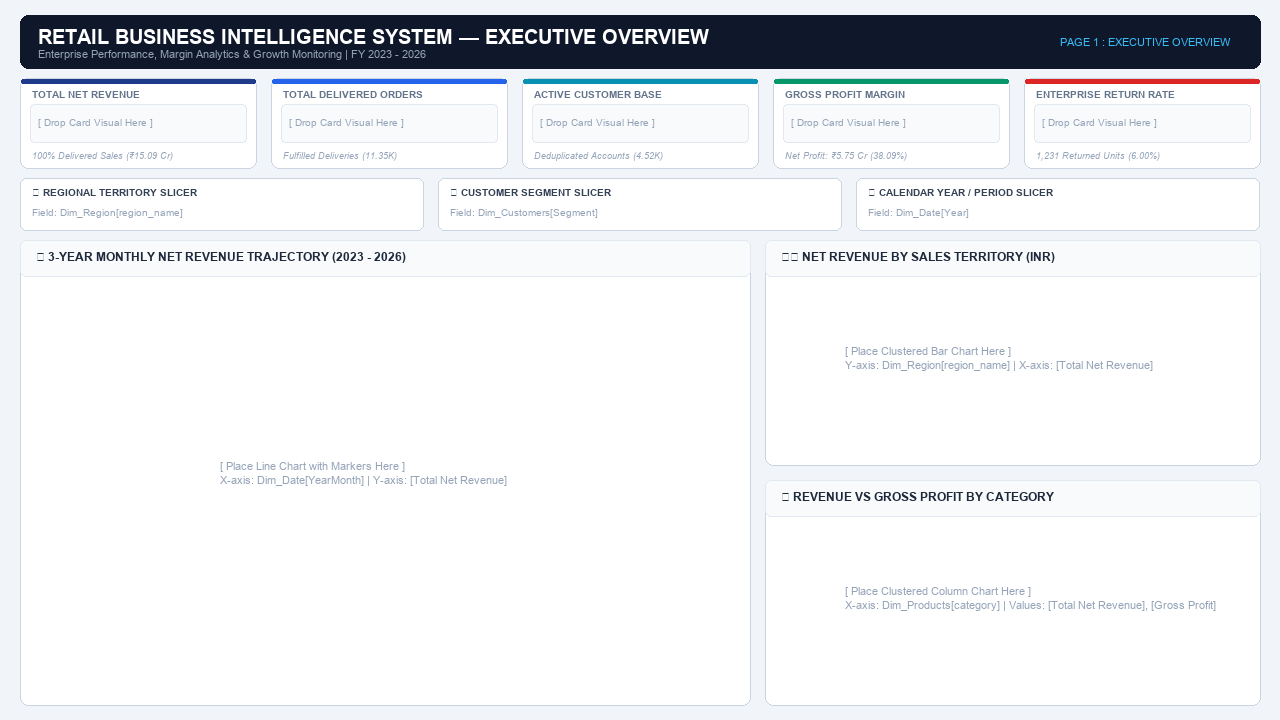

This screenshot's page, from the dashboard's own definition file:
{"tool":"powerbi","page":{"name":"Executive Overview","canvas":[1920,1080],"ordinal":0},"visuals":[{"type":"shape","box":[5.4,23.5,1911,81.4],"z":0},{"type":"textbox","box":[10.9,50.7,1909.2,54.3],"z":1000},{"type":"cardVisual","title":"TOTAL NET REVENUE","fields":{"Data":["_Measures.Total Net Revenue"]},"box":[32.6,161.1,354.7,88.7],"z":2000},{"type":"cardVisual","title":"TOTAL DELIVERED ORDERS","fields":{"Data":["_Measures.Total Delivered Orders"]},"box":[409,161.1,351.1,90.5],"z":3000},{"type":"cardVisual","title":"ACTIVE CUSTOMERS","fields":{"Data":["_Measures.Active Customers"]},"box":[783.6,161.1,354.7,90.5],"z":4000},{"type":"cardVisual","title":"GROSS PROFIT MARGIN","fields":{"Data":["_Measures.Gorss Margin %"]},"box":[1160,161.1,354.7,90.5],"z":5000},{"type":"cardVisual","title":"RETURN RATE","fields":{"Data":["_Measures.Return Rate %"]},"box":[1536.4,161.1,354.7,90.5],"z":6000},{"type":"slicer","fields":{"Values":["Dim_Region.region_name"]},"box":[32.6,300.4,606.2,45.2],"z":7000},{"type":"slicer","fields":{"Values":["Dim_Customers.Segment.1"]},"box":[638.8,300.4,622.5,45.2],"z":8000},{"type":"slicer","fields":{"Values":["Dim_Date.Year"]},"box":[1286.7,300.4,602.6,45.2],"z":9000},{"type":"lineChart","title":"Monthly Net Revenue Trend (2023 - 2026)","fields":{"Category":["Dim_Date.YearMonth"],"Y":["_Measures.Total Net Revenue"]},"box":[32.6,414.4,1093,647.9],"z":10000},{"type":"clusteredBarChart","title":"Net Revenue by Sales Territory (INR)","fields":{"Category":["Dim_Region.region_name"],"Y":["_Measures.Total Net Revenue"]},"box":[1138.3,414.4,751,280.5],"z":11000},{"type":"clusteredColumnChart","title":"Revenue vs Gross Profit by Category","fields":{"Category":["Dim_Products.category"],"Y":["_Measures.Total Net Revenue","_Measures.Gross Profit"]},"box":[1138.3,774.5,751,287.7],"z":12000}]}

Visuals, with their boxes in screenshot pixels (x1, y1, x2, y2), scaled from the page's 1920x1080 canvas onto the 1280x720 screenshot:
shape: 4 16 1278 70
textbox: 7 34 1279 70
"TOTAL NET REVENUE" cardVisual: 22 107 258 167
"TOTAL DELIVERED ORDERS" cardVisual: 273 107 507 168
"ACTIVE CUSTOMERS" cardVisual: 522 107 759 168
"GROSS PROFIT MARGIN" cardVisual: 773 107 1010 168
"RETURN RATE" cardVisual: 1024 107 1261 168
slicer - Dim_Region.region_name: 22 200 426 230
slicer - Dim_Customers.Segment.1: 426 200 841 230
slicer - Dim_Date.Year: 858 200 1260 230
"Monthly Net Revenue Trend (2023 - 2026)" lineChart: 22 276 750 708
"Net Revenue by Sales Territory (INR)" clusteredBarChart: 759 276 1260 463
"Revenue vs Gross Profit by Category" clusteredColumnChart: 759 516 1260 708
